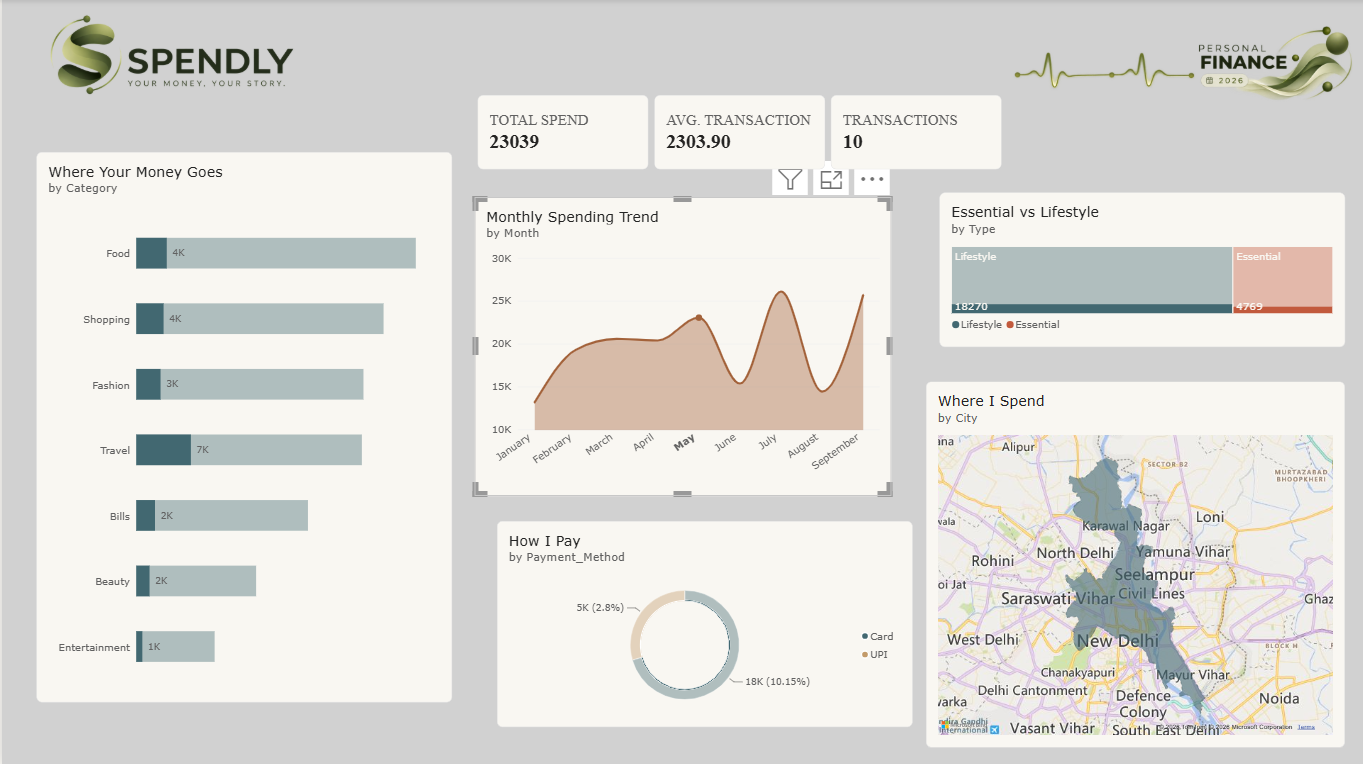

Layout of this report page (visuals, bound fields, positions):
{"tool":"powerbi","page":{"name":"Page 1","canvas":[1920,1080],"ordinal":0},"visuals":[{"type":"barChart","title":"Where Your Money Goes","fields":{"Category":["Table1.Category"],"Y":["Sum(Table1.Amount)"]},"box":[49.2,159.4,586.1,832.3],"z":0},{"type":"areaChart","fields":{"Category":["Table1.Date.Variation.Date Hierarchy.Month"],"Y":["Sum(Table1.Amount)"]},"box":[665.8,279,588.5,422],"z":1000},{"type":"donutChart","fields":{"Category":["Table1.Payment_Method"],"Y":["Sum(Table1.Amount)"]},"box":[698.7,736.2,586.1,290.7],"z":2000},{"type":"filledMap","fields":{"Category":["Table1.City"]},"box":[1303.5,539.2,590.8,515.8],"z":3000},{"type":"image","box":[0,0,471.2,159.4],"z":4000},{"type":"cardVisual","fields":{"Data":["Sum(Table1.Amount)","Avg(Table1.Amount)","CountNonNull(Table1.Amount)"]},"box":[670.5,136,740.9,105.5],"z":5000},{"type":"treemap","title":"Essential vs Lifestyle","fields":{"Group":["Table1.Type"],"Values":["Sum(Table1.Amount)"]},"box":[1322.3,272,572.1,218],"z":6000},{"type":"image","box":[1411.4,0,508.8,189.9],"z":7000}]}

Visuals, with their boxes in screenshot pixels (x1, y1, x2, y2), scaled from the page's 1920x1080 canvas onto the 1363x764 screenshot:
"Where Your Money Goes" barChart: 35, 113, 451, 702
areaChart - Table1.Date.Variation.Date Hierarchy.Month x Sum(Table1.Amount): 473, 197, 890, 496
donutChart - Table1.Payment_Method x Sum(Table1.Amount): 496, 521, 912, 726
filledMap - Table1.City: 925, 381, 1345, 746
image: 0, 0, 335, 113
cardVisual - Sum(Table1.Amount) x Avg(Table1.Amount): 476, 96, 1002, 171
"Essential vs Lifestyle" treemap: 939, 192, 1345, 347
image: 1002, 0, 1362, 134
